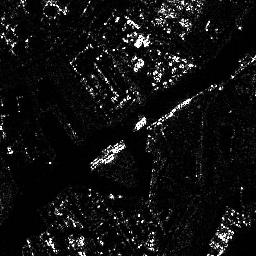ship: (132, 115, 146, 134)
